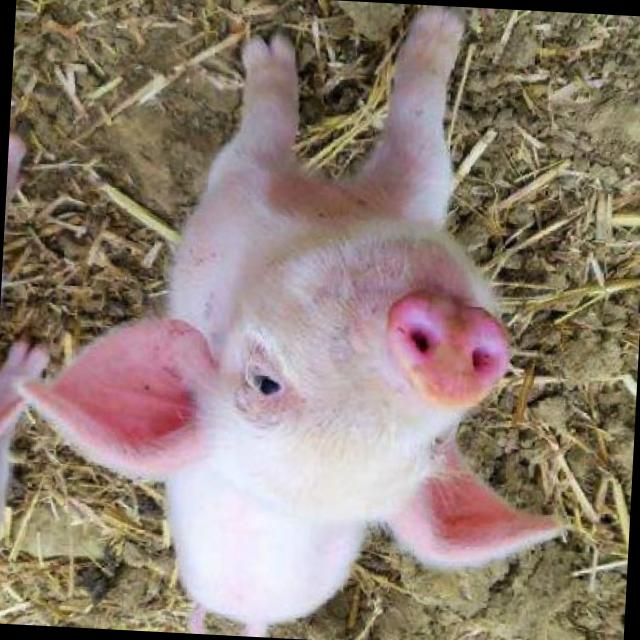pig: (22, 5, 561, 637), (0, 340, 47, 527), (9, 134, 25, 196)
